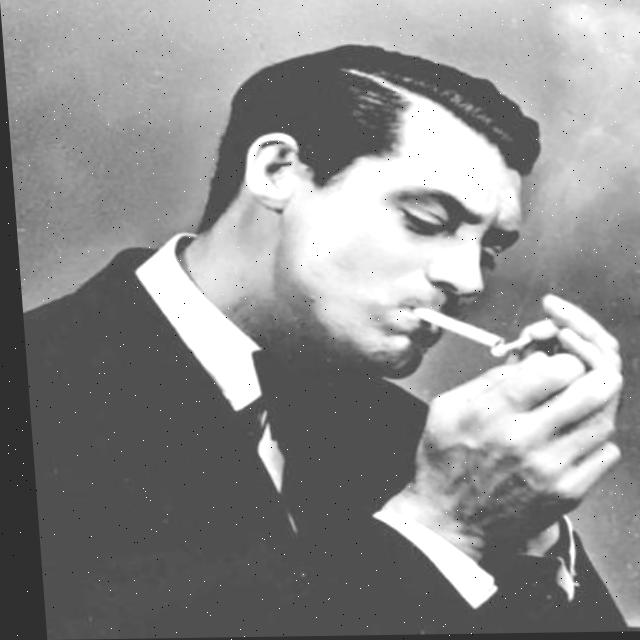cigarette: (405, 305, 498, 353)
